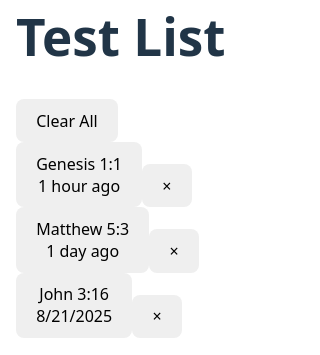
Test: VerseList Component › Item Management › clears all items when clear all button is clicked
The width and height of the screenshot is (320, 355).
expect the text "Genesis 1:1" is shown: met, box x1=36 y1=153 x2=122 y2=175
Click the button with aria-label "clear all test list": (67, 121) x1=16 y1=99 x2=118 y2=142
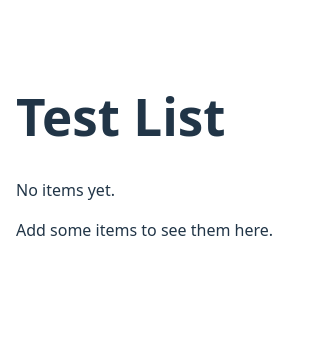
expect the text "No items yet." is shown: met, box x1=16 y1=180 x2=115 y2=202
